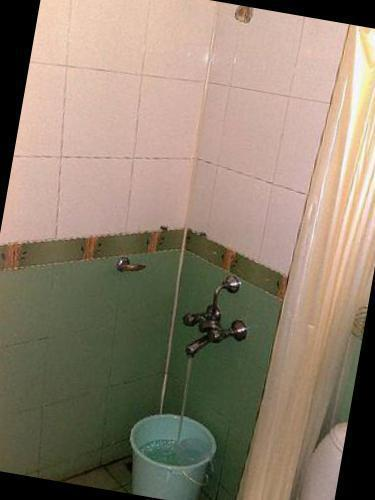Ducha: (107, 0, 354, 500)
Sanitario: (208, 388, 375, 500)
